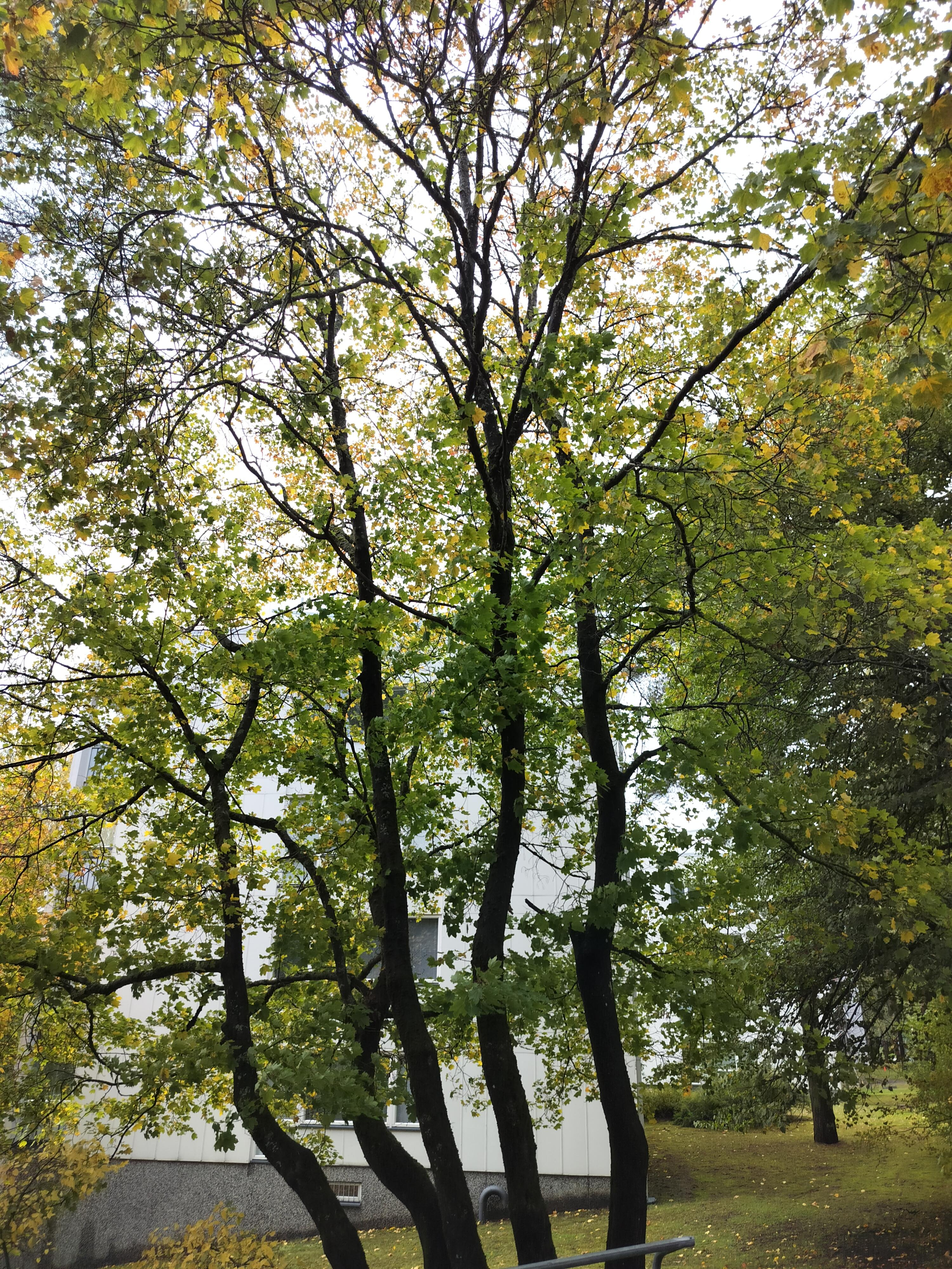Maple: (0, 1, 908, 1269), (77, 0, 686, 1260), (533, 0, 826, 1269), (13, 509, 338, 1244)
